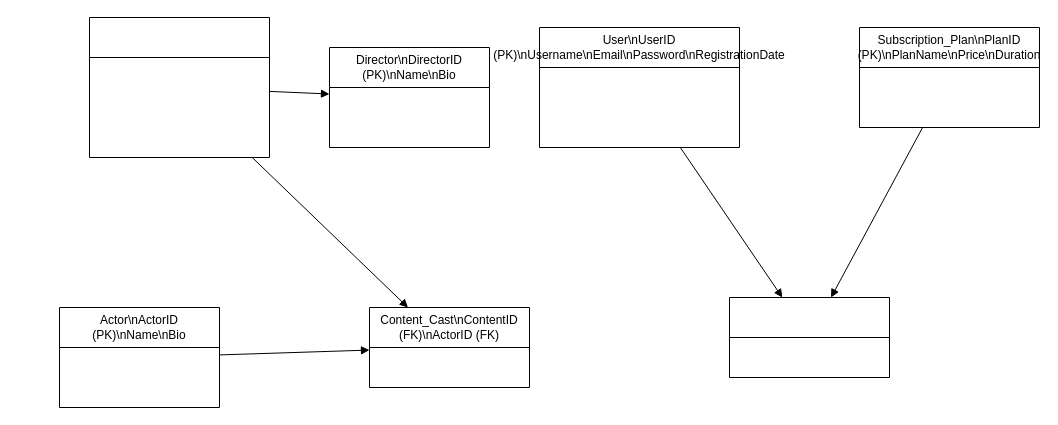
Some shapes in this 1058 by 425 pixel diagram are drawn without their labels. The shapes that lost their labels are listed below. From the top down, each one's centre as x and y in pixels, then its label:
[179,87]: Content\nContentID (PK)\nTitle\nDescription\nReleaseDate\nDuration\nLanguage
[809,337]: User_Subscription\nUserID (FK)\nPlanID (FK)\nStartDate\nEndDate
